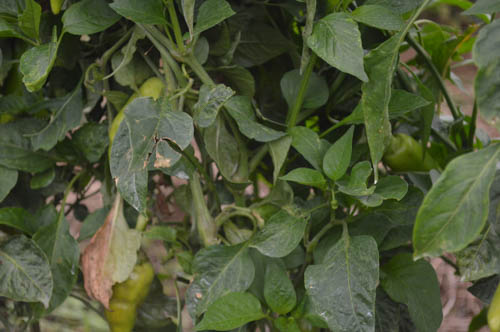ChiliPepper: (105, 78, 166, 165), (112, 262, 151, 332), (387, 131, 438, 177)
